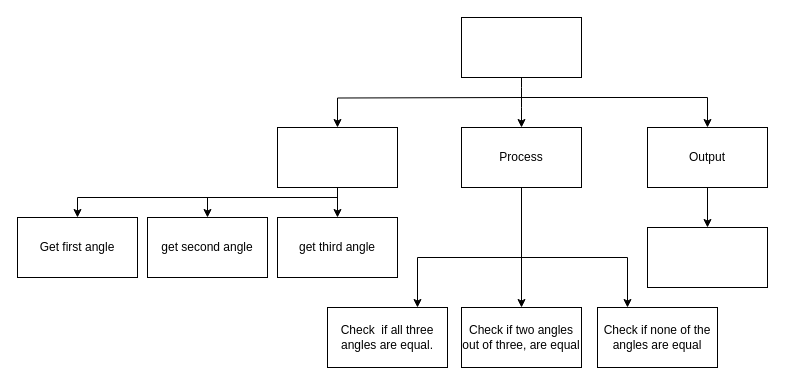
This 785x385 diagram has some shape labels left out. Here are the shapes that lost their labels. From the top down, the centre of each, then its label:
the point at 521,47: Equilateral,Isoceles and Scalene Triangles
the point at 337,157: Input
the point at 707,257: Show awnser
